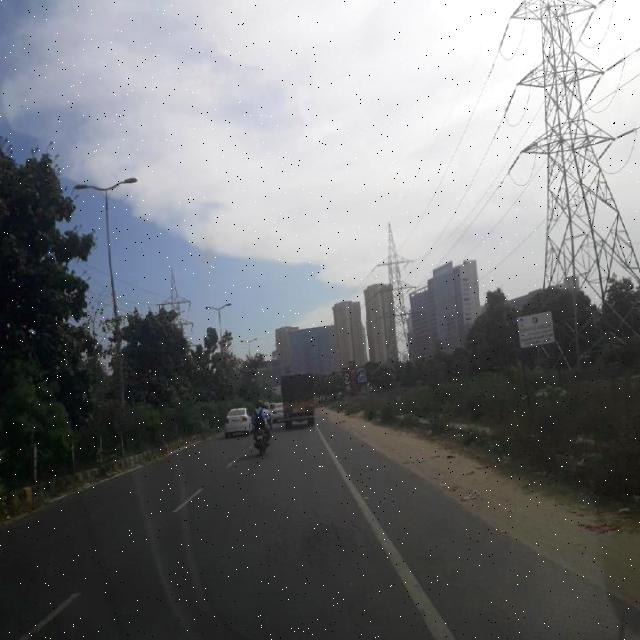D20: (136, 472, 415, 631)
